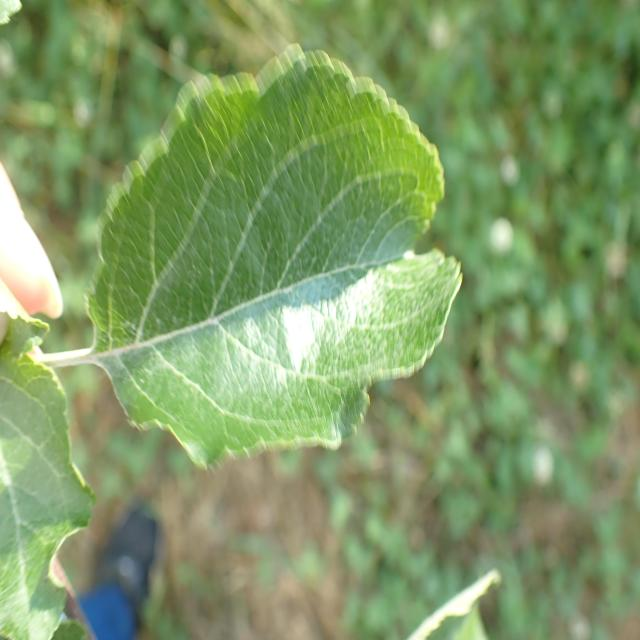healthy: (84, 43, 463, 473), (0, 316, 97, 640)
